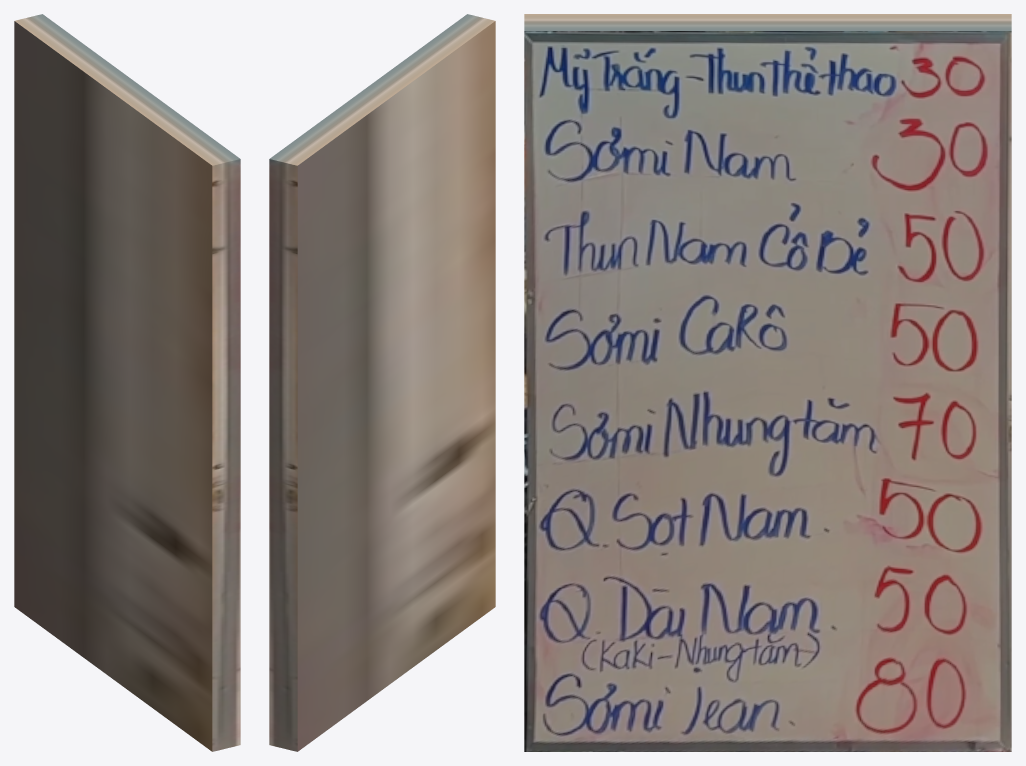
The model's file is banghieu.fbx.
3 renders of one model, left to right at view 1: azimuth 30°, elevation 25°; view 2: azimuth 150°, elevation 25°; view 3: azimuth 270°, elevation 25°, orthographic. The views are drawn at different scales.
Parts seen in each view (by area): view 1: Cube.015; view 2: Cube.015; view 3: Cube.015.
Boxes of the visible parts, <box> form: Cube.015: <box>14,14,240,751</box>; Cube.015: <box>269,14,495,751</box>; Cube.015: <box>524,14,1011,751</box>.
Bounding box in the file's own units: 31.39 × 624 × 382.
1 material, 1 textured.
